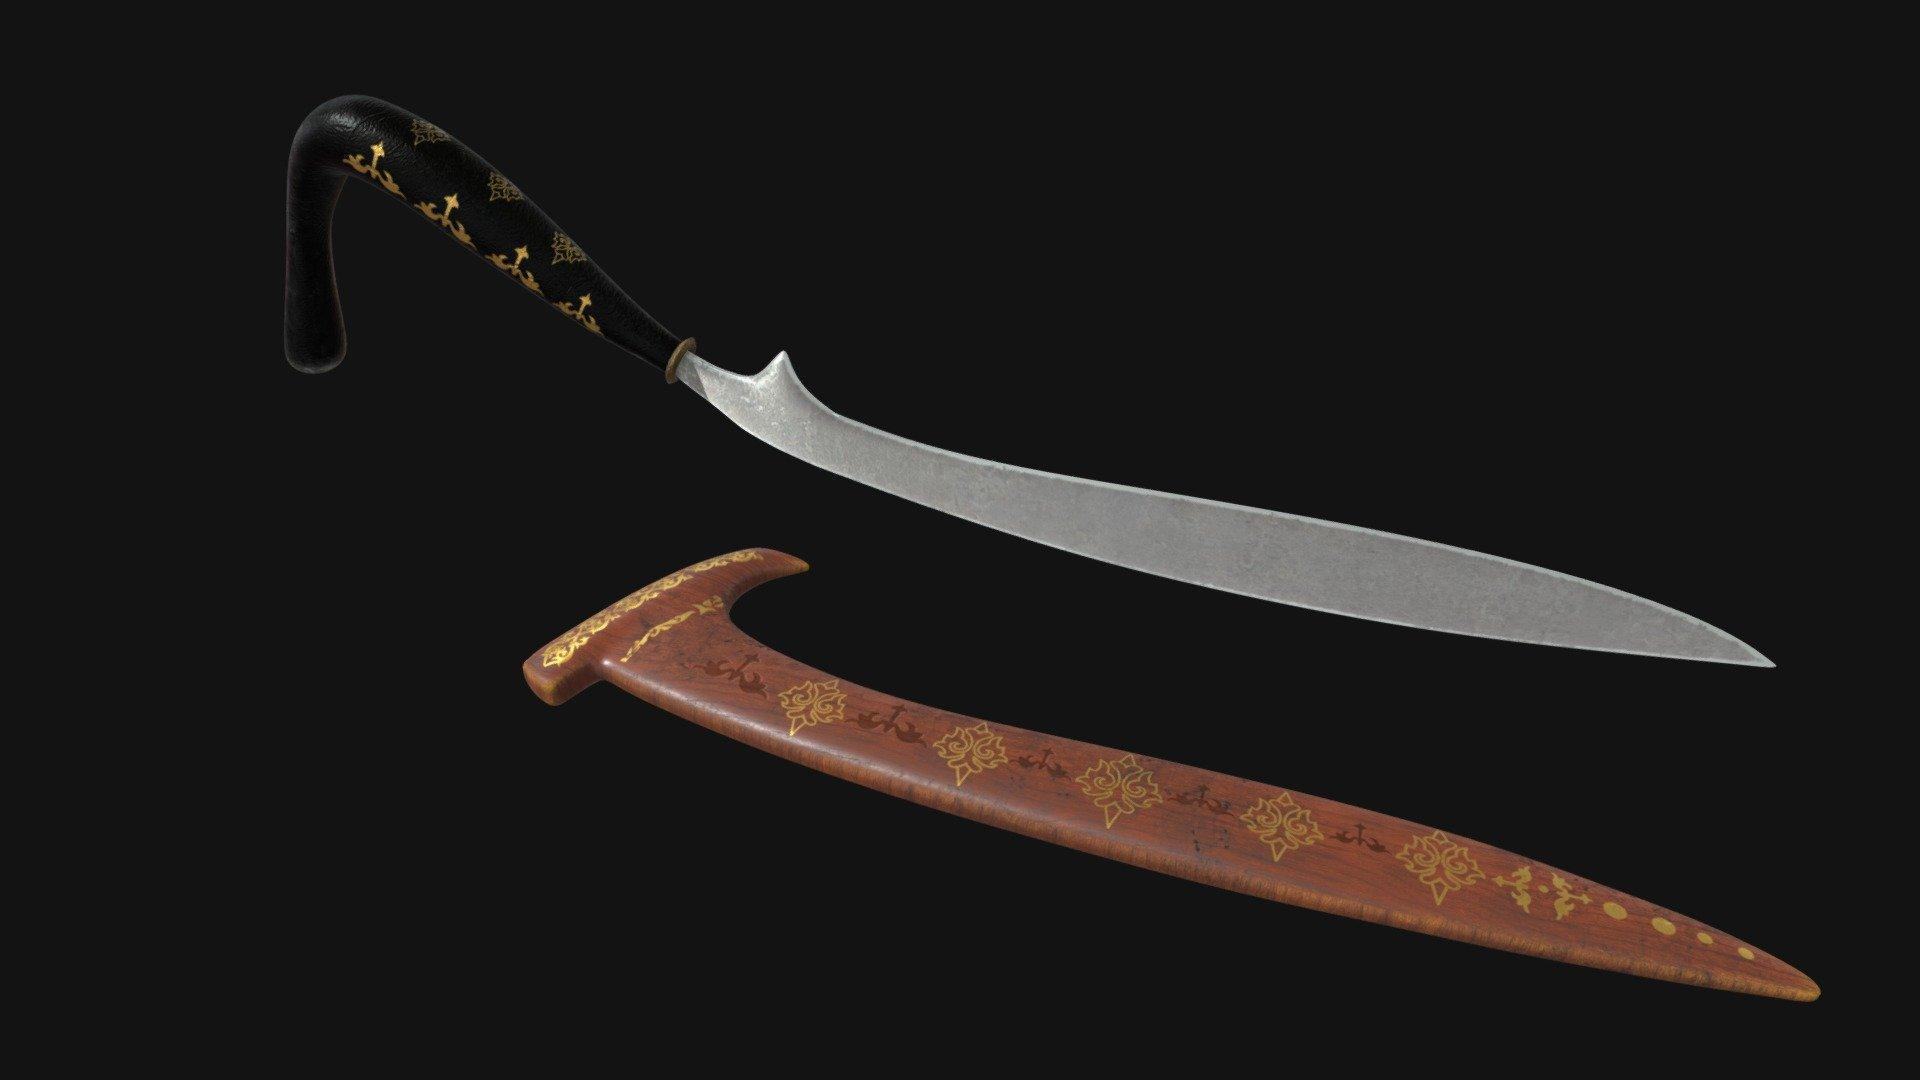espada: (286, 96, 1774, 666)
